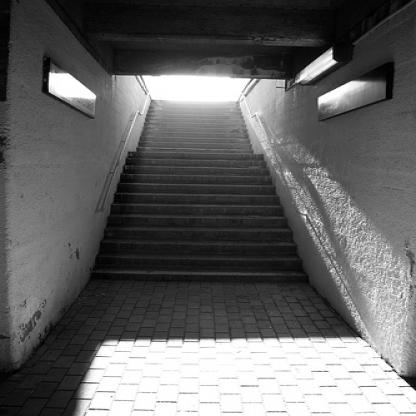stairs: (139, 155, 262, 284)
